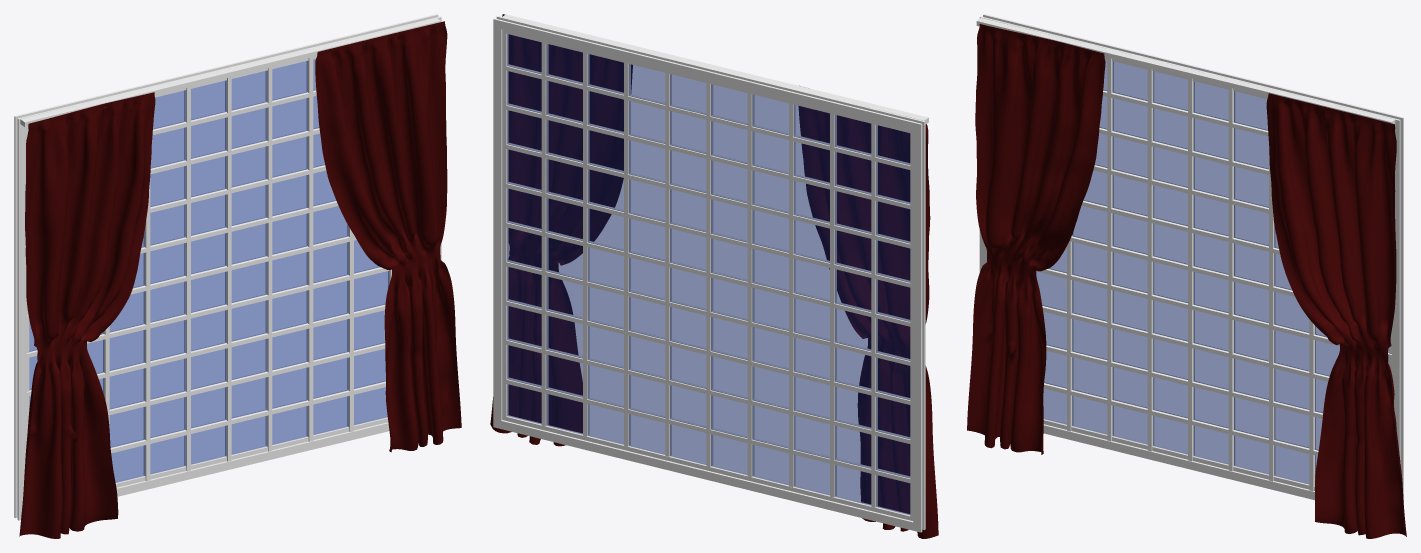
Rendered from perde_Dekor.fbx.
3 renders of one model, left to right at view 1: azimuth 30°, elevation 25°; view 2: azimuth 150°, elevation 25°; view 3: azimuth 330°, elevation 25°, orthographic.
Visible parts, largest first — view 1: FixedWindow001, Plane001, Plane002, Box001; view 2: FixedWindow001, Plane002, Plane001, Box001; view 3: FixedWindow001, Plane002, Plane001, Box001.
Boxes of the visible parts, x1,y1,x2,y2 form: FixedWindow001: (14, 14, 441, 520); Plane001: (19, 92, 155, 538); Plane002: (315, 21, 461, 452); Box001: (20, 18, 440, 126); FixedWindow001: (493, 16, 925, 532); Plane002: (490, 14, 632, 446); Plane001: (798, 85, 938, 538); Box001: (503, 14, 928, 124); FixedWindow001: (979, 14, 1403, 504); Plane002: (1266, 93, 1406, 538); Plane001: (967, 24, 1105, 454); Box001: (976, 18, 1395, 124).
Size of the model in its own units: 113 by 102 by 10.32.
